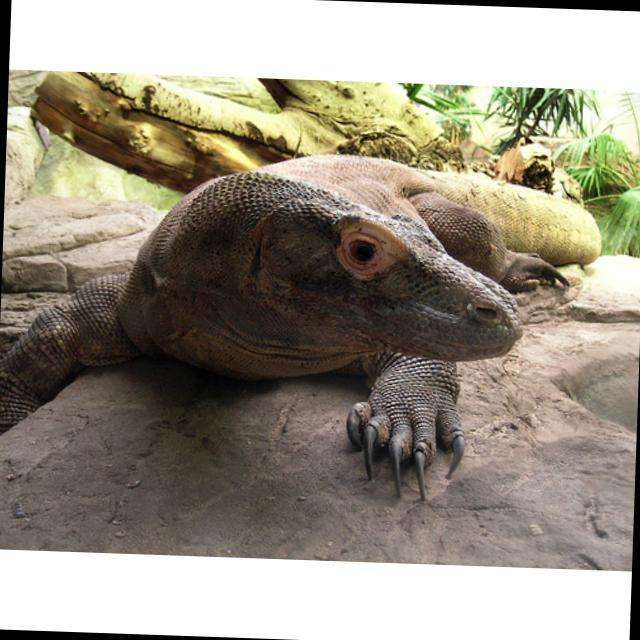KomodoDragon: (0, 140, 605, 506)
